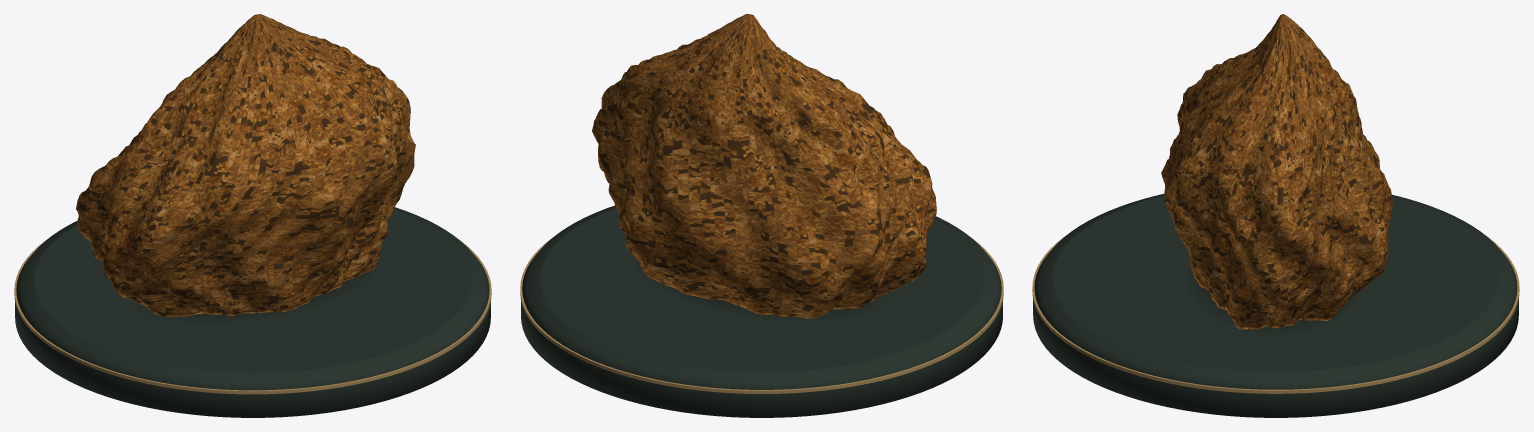
Rendered from lingstone-concept-04-v191-48fae14058d1.glb.
The picture shows the model from 3 angles, left to right: view 1: azimuth 30°, elevation 25°; view 2: azimuth 150°, elevation 25°; view 3: azimuth 270°, elevation 25°; orthographic projection. The views are drawn at different scales.
Parts seen in each view (by area): view 1: XY-CONCEPT-004 concept stone, Centered beveled display plinth, Champagne gold edge; view 2: XY-CONCEPT-004 concept stone, Centered beveled display plinth, Champagne gold edge; view 3: Centered beveled display plinth, XY-CONCEPT-004 concept stone, Champagne gold edge.
Part boxes in pixels (<box>): XY-CONCEPT-004 concept stone: <box>76,14,415,317</box>; Centered beveled display plinth: <box>15,207,490,417</box>; Champagne gold edge: <box>14,239,491,394</box>; XY-CONCEPT-004 concept stone: <box>592,14,936,318</box>; Centered beveled display plinth: <box>521,205,1002,417</box>; Champagne gold edge: <box>520,237,1003,393</box>; Centered beveled display plinth: <box>1033,194,1518,417</box>; XY-CONCEPT-004 concept stone: <box>1161,14,1392,329</box>; Champagne gold edge: <box>1032,236,1519,393</box>.
Bounding box in the file's own units: 2.05 × 1.43 × 2.05.
Materials: 4 (1 with a texture image).
